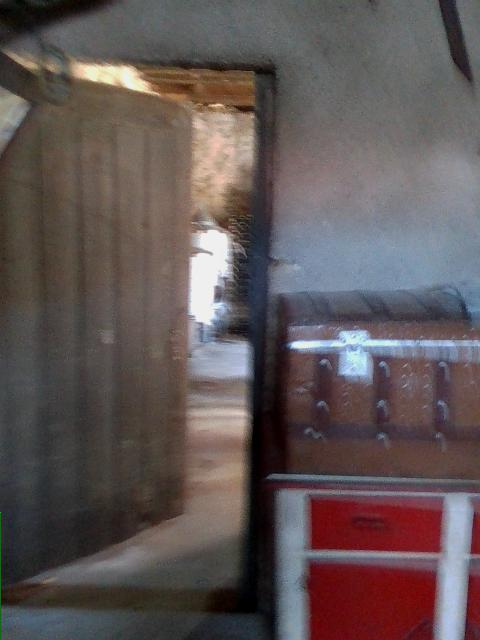semi_door: (3, 48, 279, 613)
